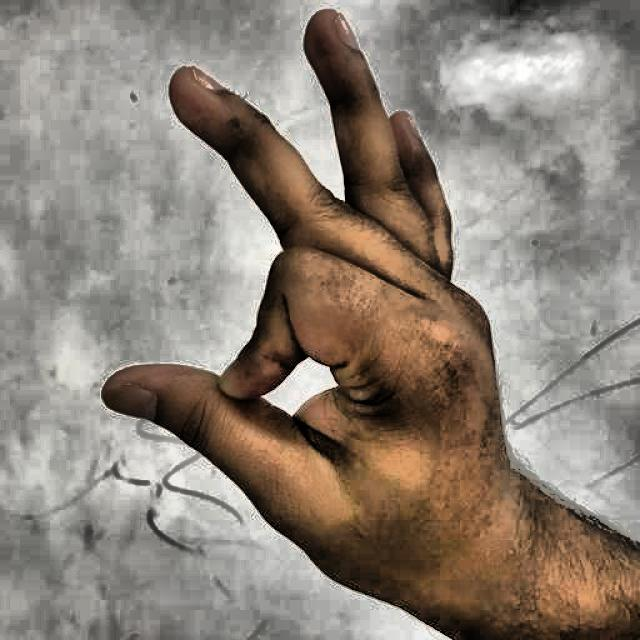Uo: (60, 6, 599, 618)
